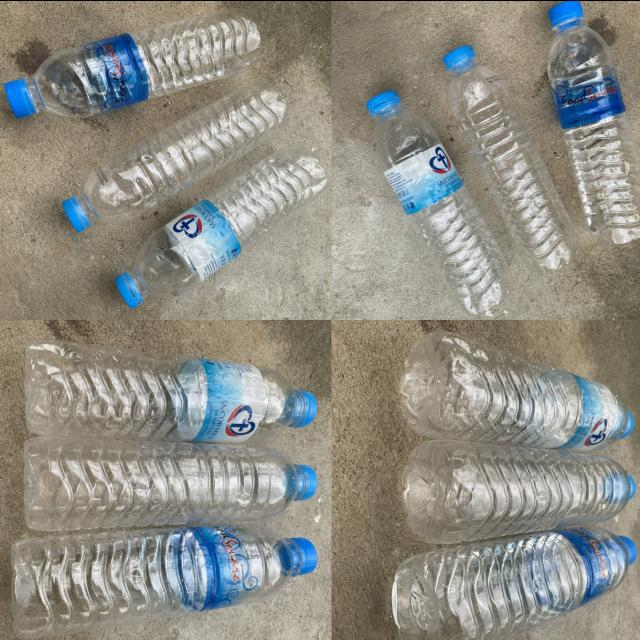plastik: (12, 524, 317, 638), (63, 80, 288, 231), (115, 146, 326, 307), (367, 91, 511, 312), (444, 45, 579, 272), (25, 339, 317, 442), (401, 329, 633, 450), (392, 526, 636, 640), (5, 9, 259, 117), (23, 437, 317, 530), (402, 440, 634, 542), (548, 0, 640, 244)
